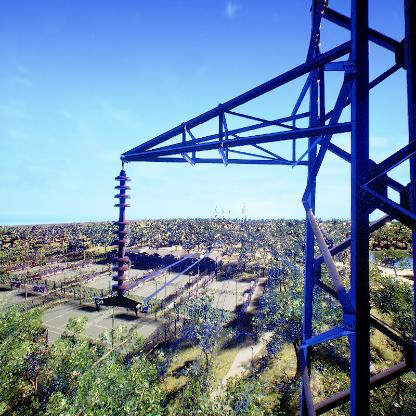insulator: (111, 174, 134, 295)
